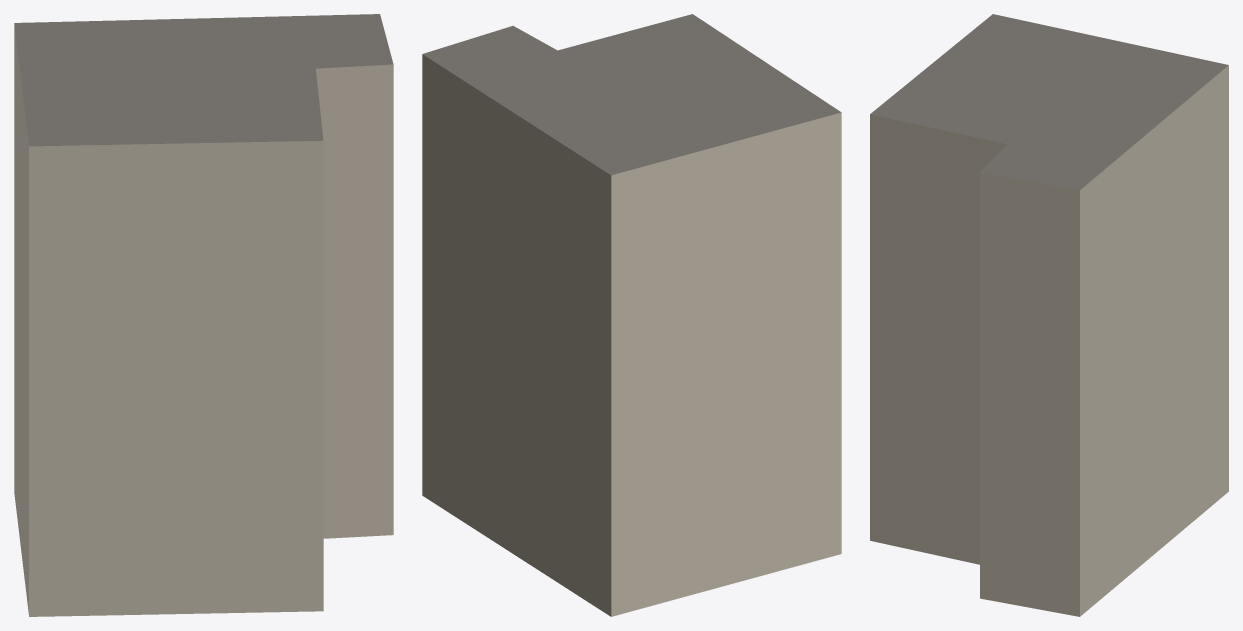
3 renders of one model, left to right at view 1: azimuth 30°, elevation 25°; view 2: azimuth 150°, elevation 25°; view 3: azimuth 270°, elevation 25°, orthographic. The views are drawn at different scales.
Visible parts, largest first — view 1: HP-w505643545; view 2: HP-w505643545; view 3: HP-w505643545.
Boxes of the visible parts, left/top/right/bottom form: HP-w505643545: left=14, top=14, right=393, bottom=616; HP-w505643545: left=422, top=14, right=841, bottom=616; HP-w505643545: left=870, top=14, right=1228, bottom=616.
Size of the model in its own units: 15.97 by 18 by 13.73.
